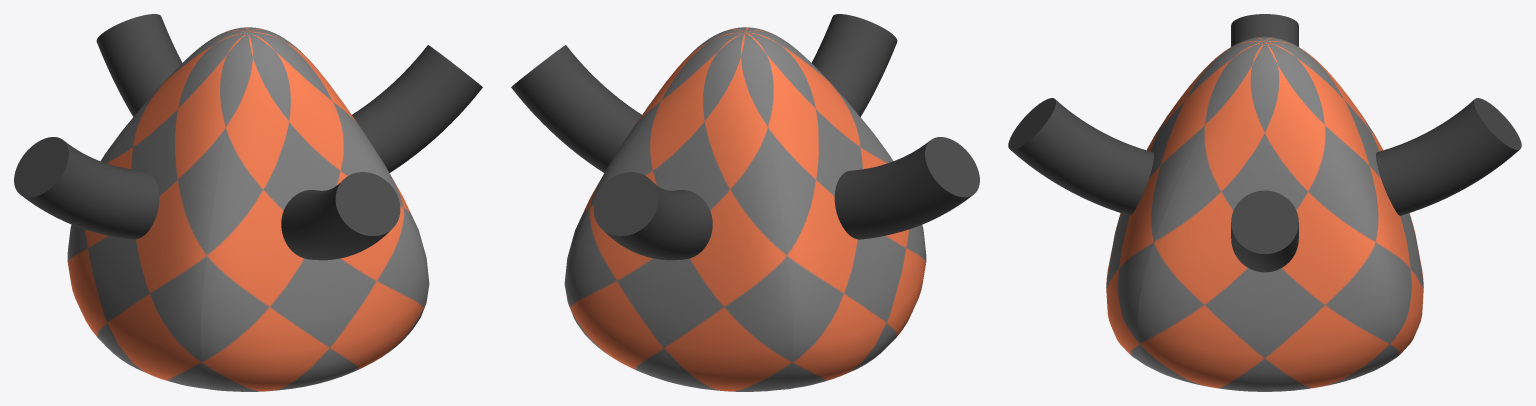
The model's file is Body(Pyramidal)+Colour(More_Orange)+Pattern(Diamond)+Arm_Angle(Bent_Up).fbx.
The picture shows the model from 3 angles, left to right: view 1: azimuth 30°, elevation 25°; view 2: azimuth 150°, elevation 25°; view 3: azimuth 270°, elevation 25°; orthographic projection. The views are drawn at different scales.
Visible parts, largest first — view 1: Body(Pyramidal)+Colour(More_Orange)+Pattern(Diamond)+Arm_Ang (×5); view 2: Body(Pyramidal)+Colour(More_Orange)+Pattern(Diamond)+Arm_Ang (×5); view 3: Body(Pyramidal)+Colour(More_Orange)+Pattern(Diamond)+Arm_Ang (×5).
Boxes of the visible parts, left/top/right/bottom form: Body(Pyramidal)+Colour(More_Orange)+Pattern(Diamond)+Arm_Ang (×5): left=14, top=14, right=482, bottom=391; Body(Pyramidal)+Colour(More_Orange)+Pattern(Diamond)+Arm_Ang (×5): left=511, top=14, right=979, bottom=391; Body(Pyramidal)+Colour(More_Orange)+Pattern(Diamond)+Arm_Ang (×5): left=1008, top=14, right=1521, bottom=391.
Size of the model in its own units: 60.67 by 40 by 60.67.
Materials: 2 (2 with a texture image).
